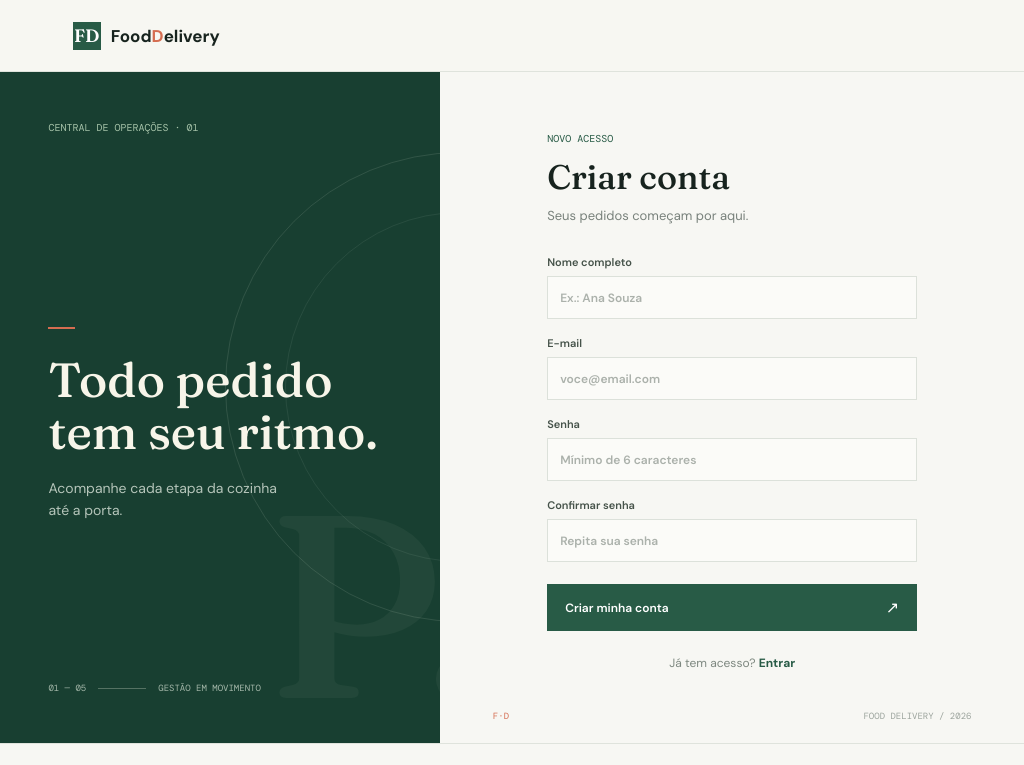
it: rotas e formulário de autenticação › não envia cadastro quando as senhas não coincidem
This screenshot has width=1024, height=765.
In the field labelled "Nome completo": [732, 298] box x1=547 y1=276 x2=917 y2=319, type "Ana Souza"
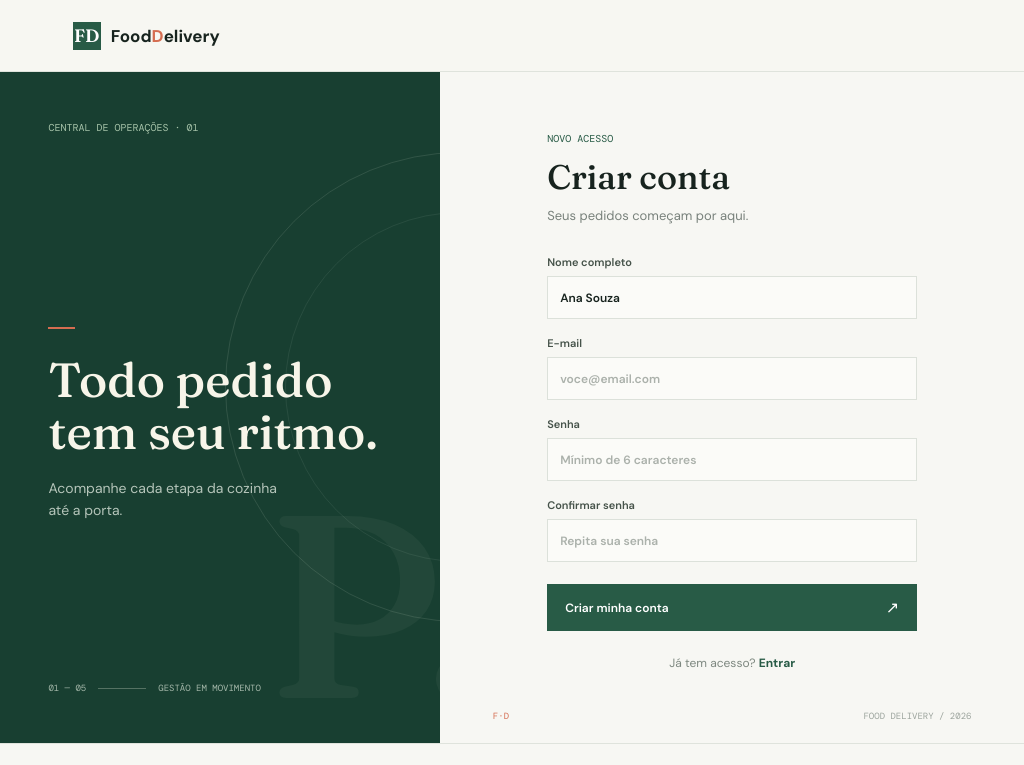
In the field labelled "E-mail": [732, 379] box x1=547 y1=357 x2=917 y2=400, type "ana@example.com"
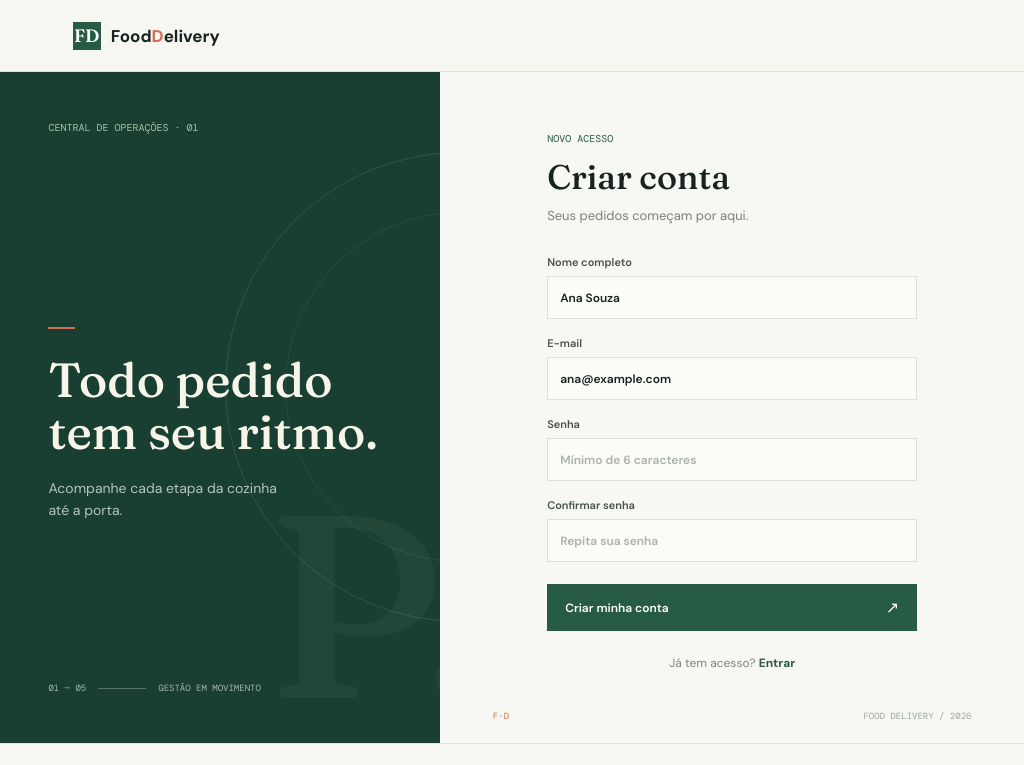
In the password field labelled "Senha": [732, 460] box x1=547 y1=438 x2=917 y2=481, type "senha-segura"
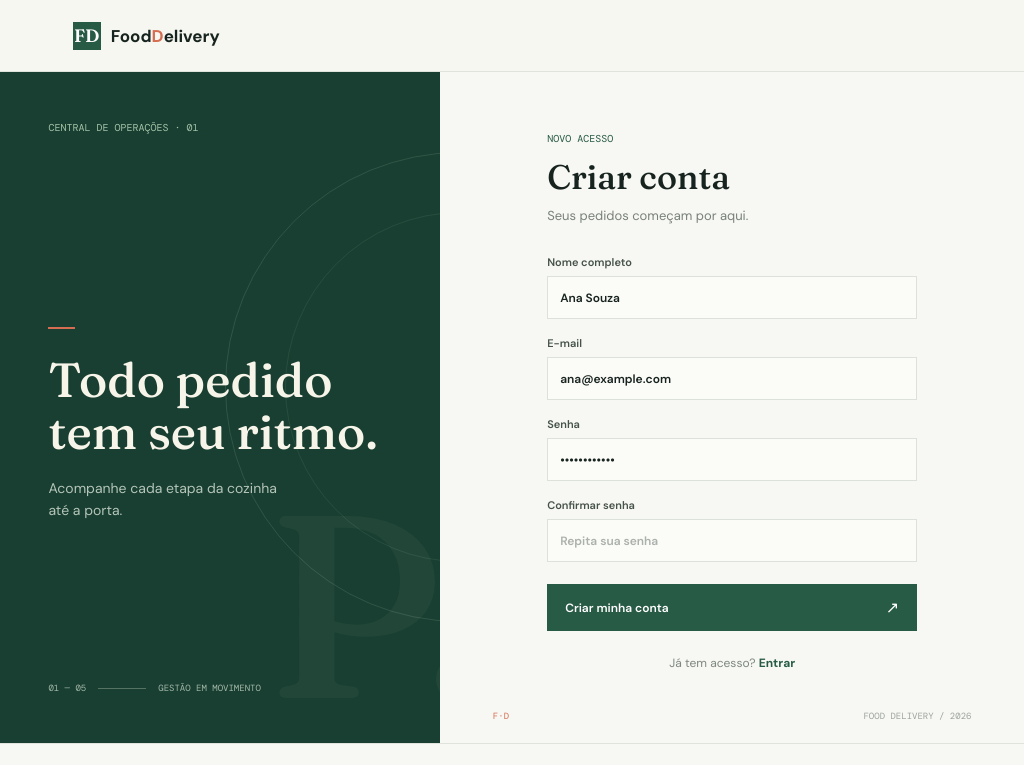
In the password field labelled "Confirmar senha": [732, 541] box x1=547 y1=519 x2=917 y2=562, type "outra-senha"
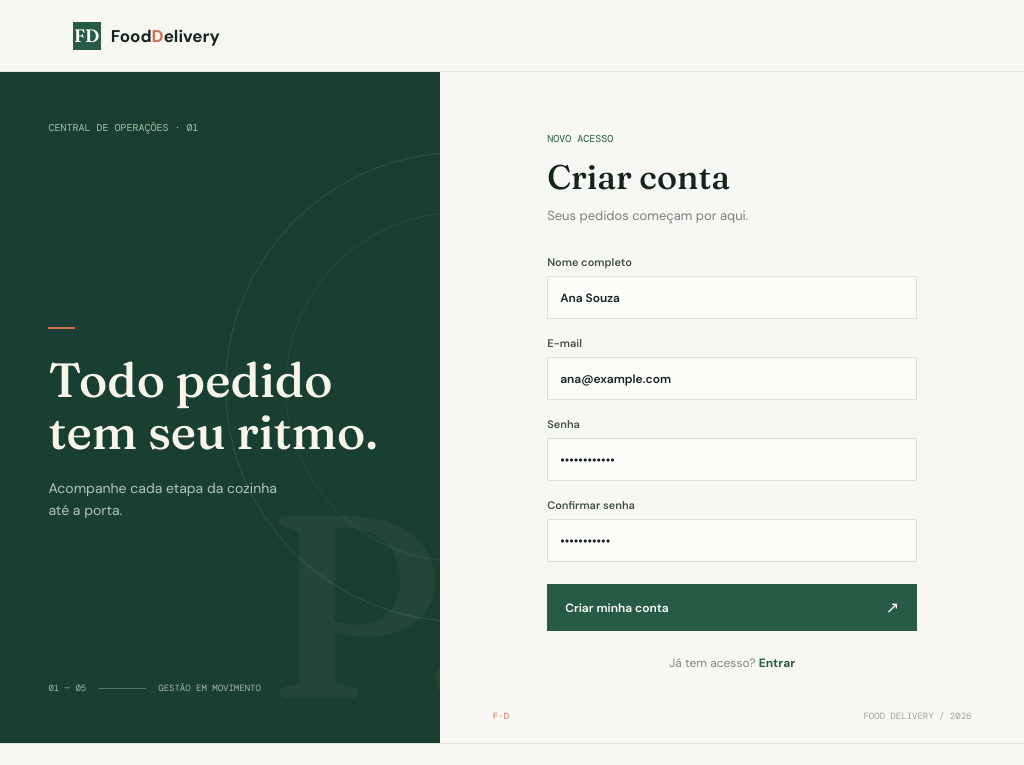
Click the button "Criar minha conta ↗": [617, 608] box x1=547 y1=584 x2=917 y2=631
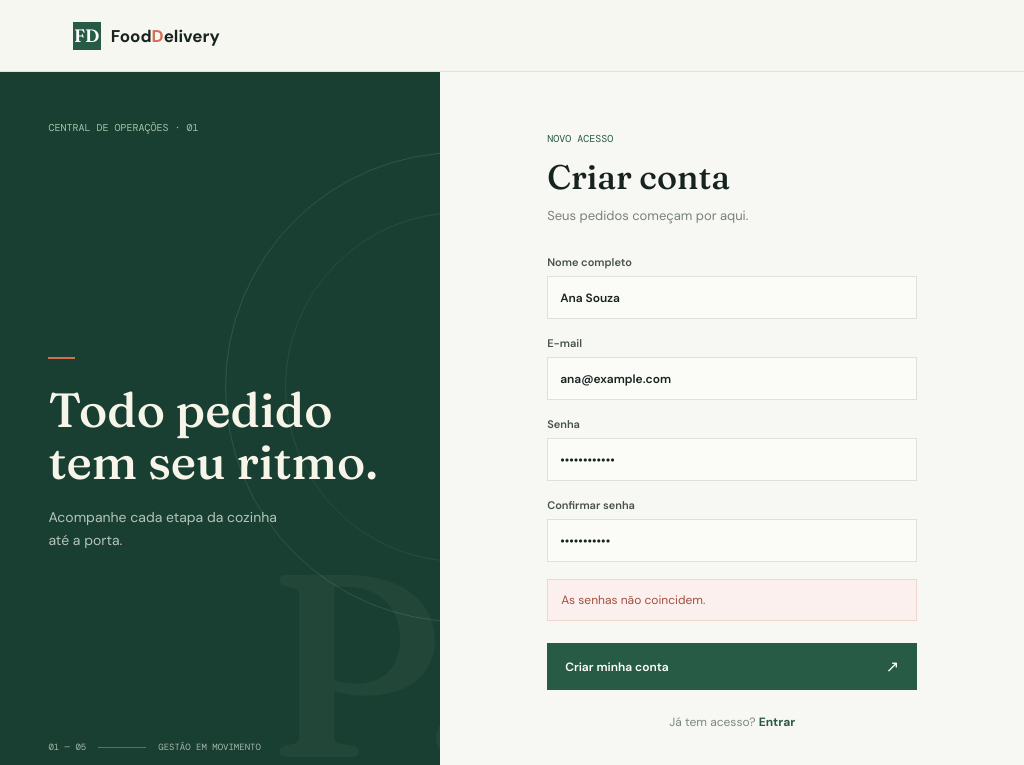
Now the message reads "As senhas não coincidem.", box x1=561 y1=592 x2=705 y2=608
